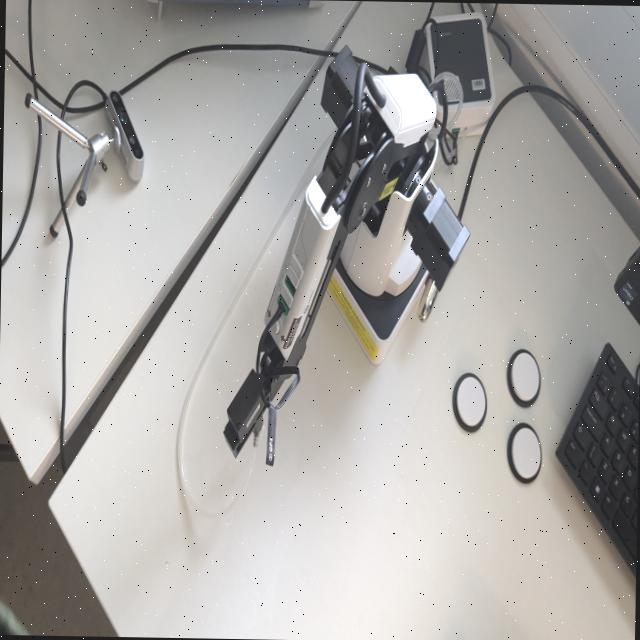Robot-end-effector-HF8z: (218, 364, 267, 466)
